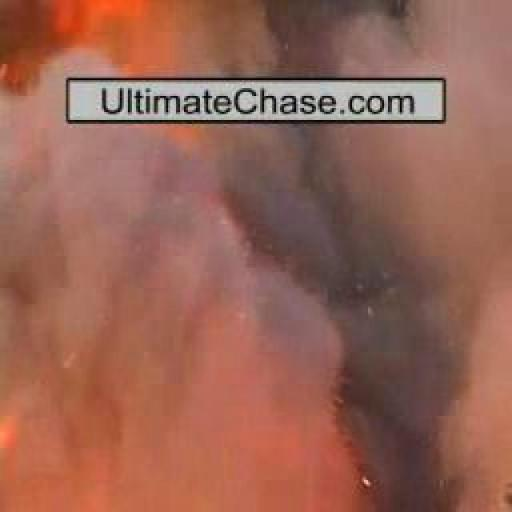smoke: (1, 0, 227, 164), (240, 380, 340, 512), (3, 389, 66, 512)
